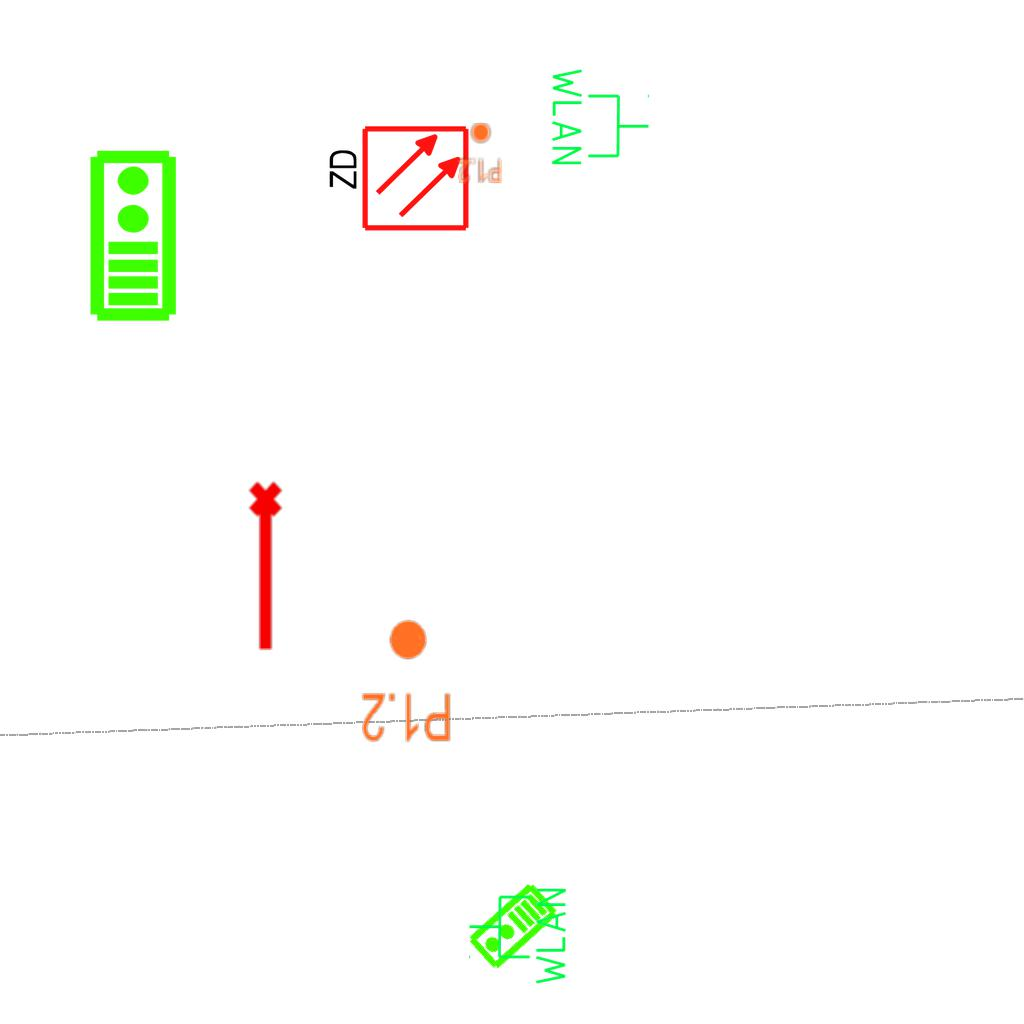ASR_Ansaugoeffnung: (245, 479, 291, 655)
Downlight_LED_Einbauleuchten_Flur: (360, 617, 453, 745), (457, 121, 503, 185)
Gegensprechanlage_mit_Video: (84, 147, 179, 323), (465, 880, 562, 974)
WLAN: (548, 64, 652, 169), (466, 884, 570, 989)
ZD_Melder_in_Zwischendecke_mit_Revisionsoeffnung_mind_40_x_40_cm: (322, 123, 471, 237)
